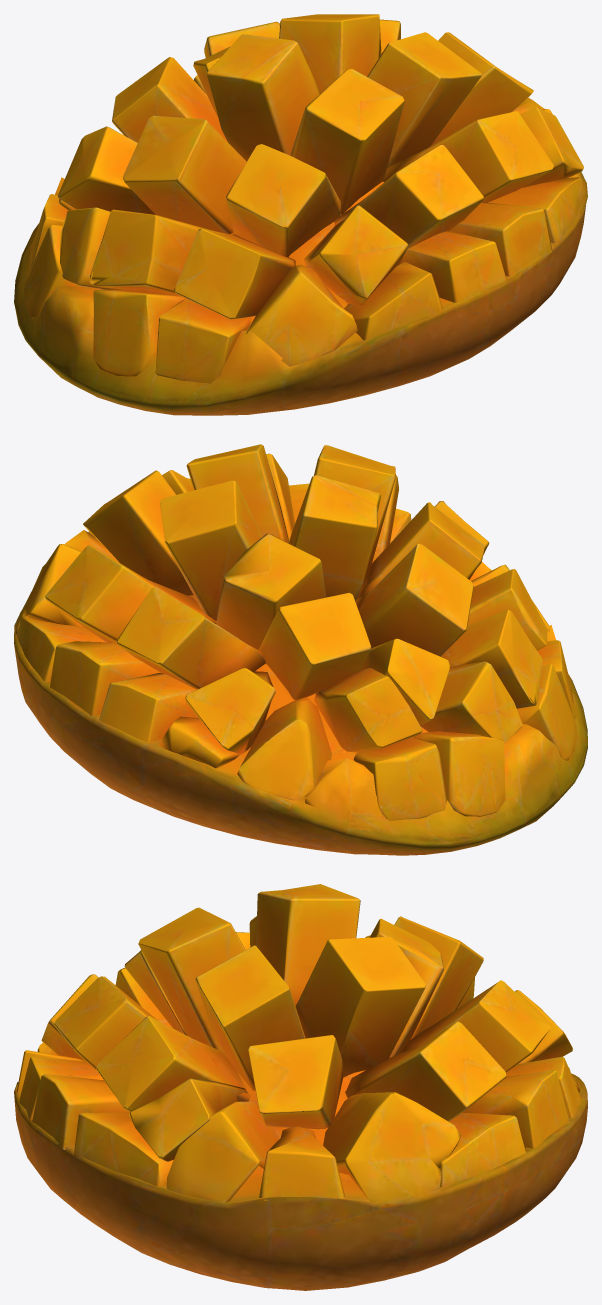
Rendered from mango-hedgehog.glb.
3 renders of one model, top to bottom at view 1: azimuth 30°, elevation 25°; view 2: azimuth 150°, elevation 25°; view 3: azimuth 270°, elevation 25°, orthographic. The views are drawn at different scales.
Parts seen in each view (by area): view 1: geometry_0; view 2: geometry_0; view 3: geometry_0.
Boxes of the visible parts, x1=… form: geometry_0: x1=14, y1=14, x2=587, y2=415; geometry_0: x1=14, y1=444, x2=587, y2=855; geometry_0: x1=14, y1=884, x2=587, y2=1290.
Size of the model in its own units: 1 by 0.6237 by 0.967.
Materials: 1 (1 with a texture image).
